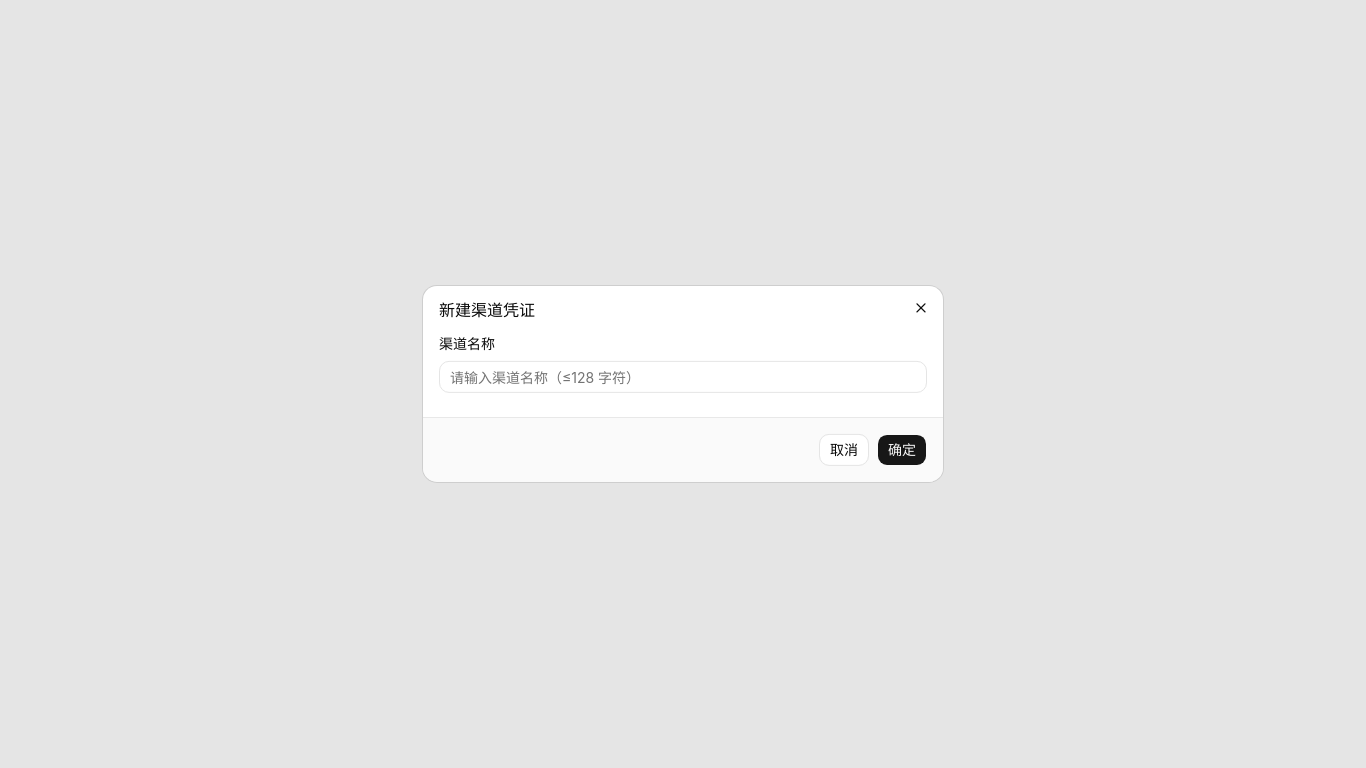
Test: CreateEditModal (渠道凭证 新建/编辑弹窗) › 提交失败路径 - 后端返回 INVALID_ARGUMENT 时在对应字段展示服务端错误信息
Type "重复的渠道名称" into the field with placeholder "请输入渠道名称（≤128 字符）" at (683, 377), box [439,361,927,393]
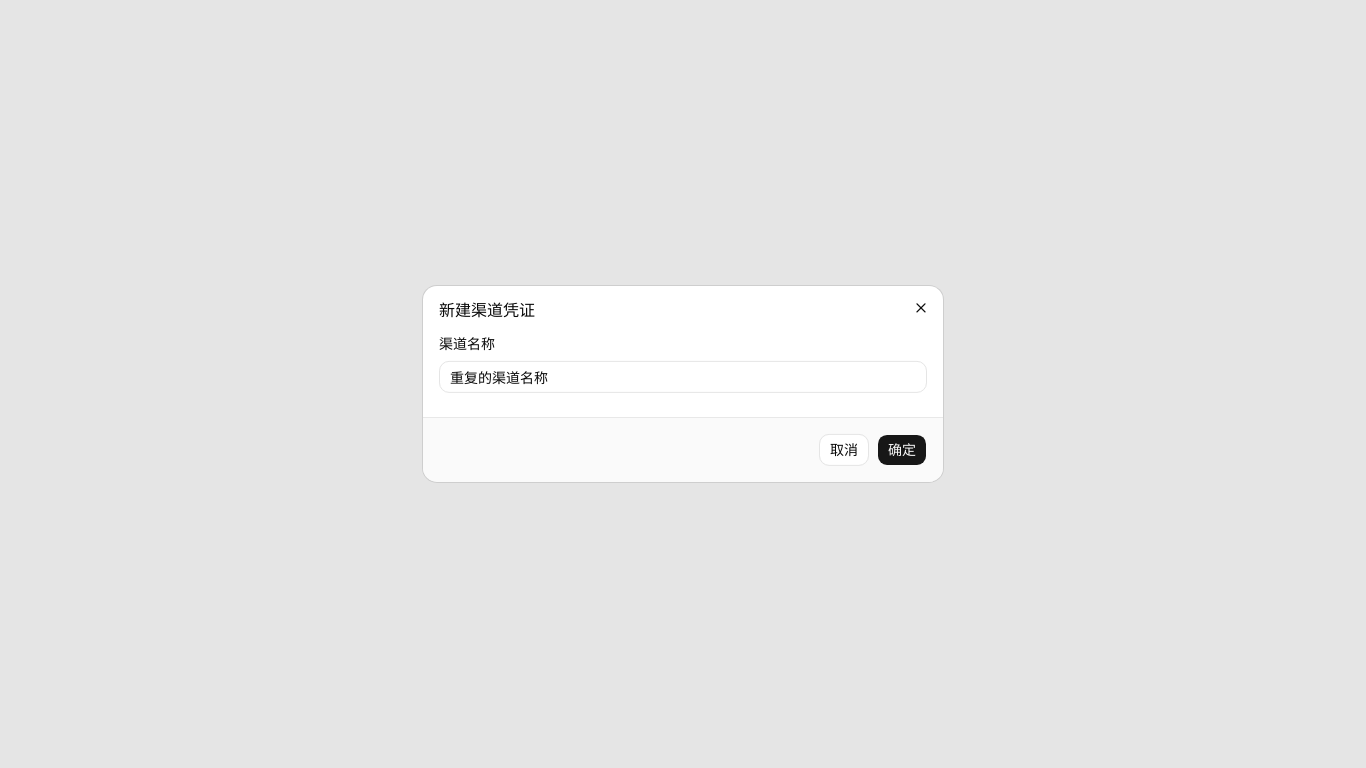
Click the button "确定" at (902, 450), box [877,434,927,466]
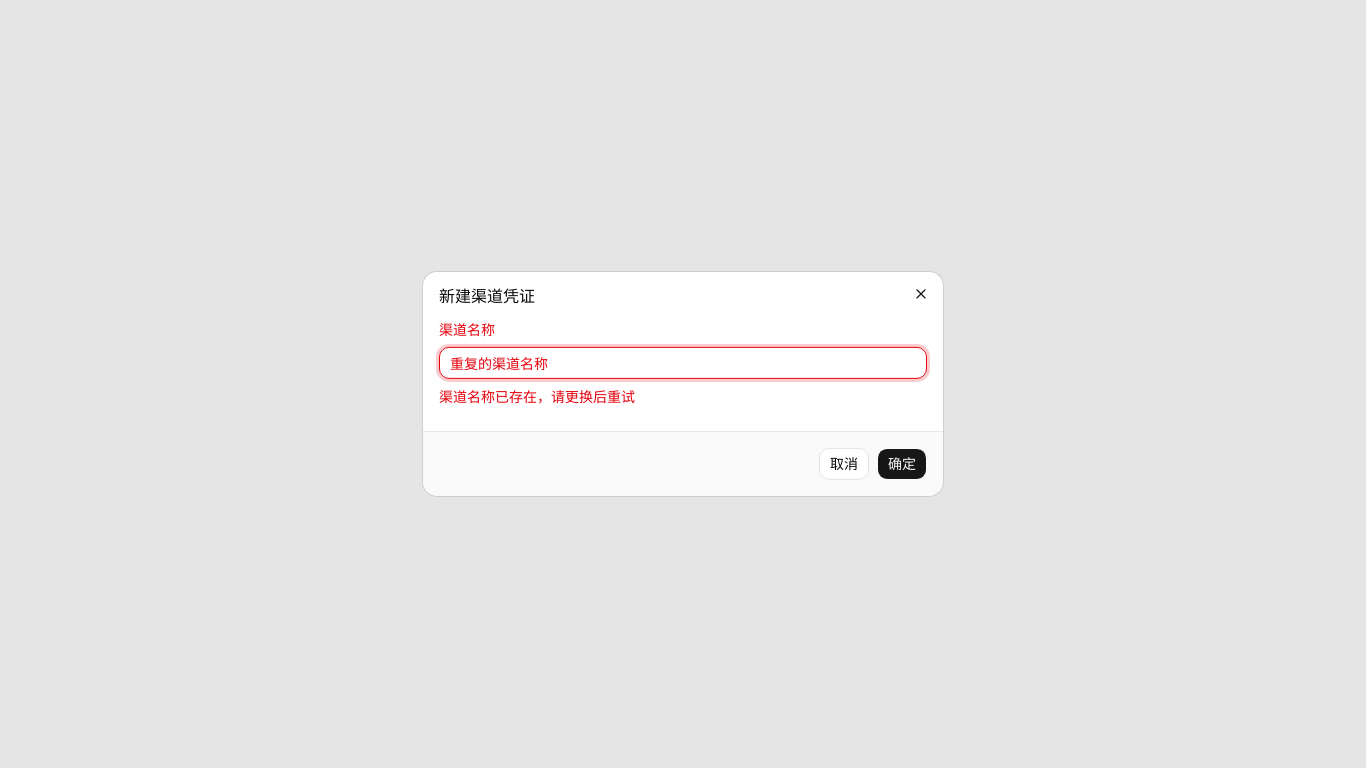
Expected: the button "确定" is enabled, [877,448,927,480]
Result: the text "渠道名称已存在，请更换后重试" is shown at [439,388,635,405]
